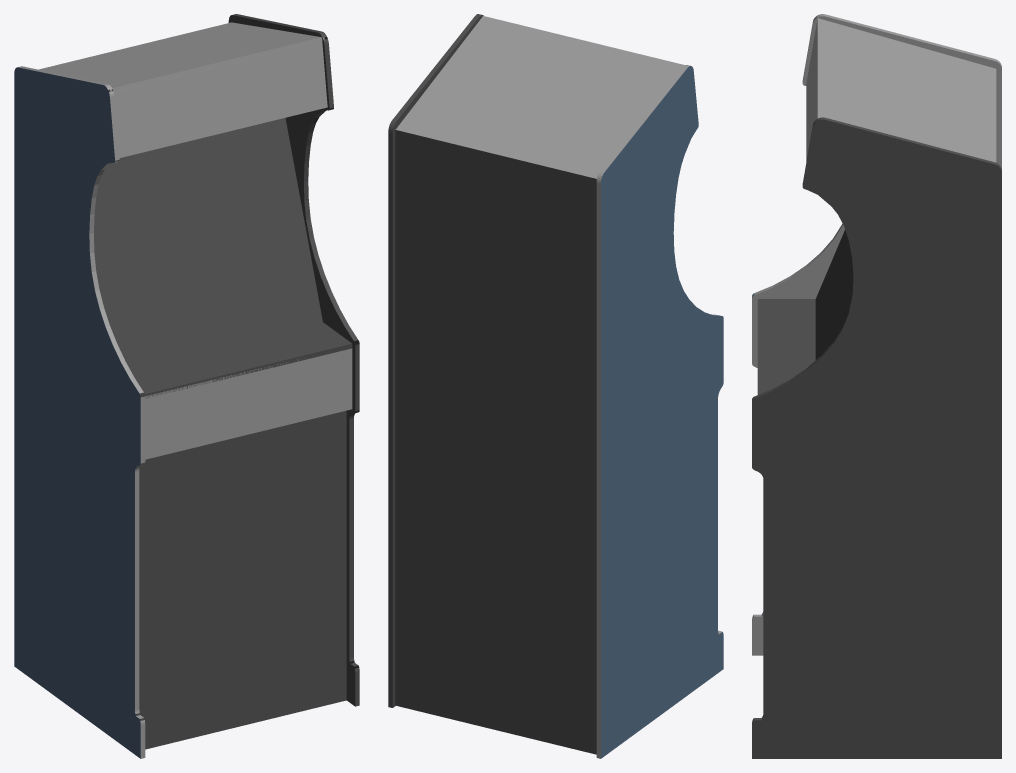
File: borneobj.obj
3 views of the same model, side by side, from view 1: azimuth 30°, elevation 25°; view 2: azimuth 150°, elevation 25°; view 3: azimuth 270°, elevation 25° (orthographic). The views are drawn at different scales.
Visible parts, largest first — view 1: Mesh2 G_1_2 Model, Mesh4 G_1_6 G_1_5 Model, Mesh1 G_1_1 G_1 Model, Mesh5 G_1_8 G_1_7 Model, Mesh7 G_1_12 G_1_11 Model, Mesh3 G_1_4 G_1_3 Model, Mesh6 G_1_10 G_1_9 Model; view 2: Mesh7 G_1_12 G_1_11 Model, Mesh2 G_1_2 Model, Mesh3 G_1_4 G_1_3 Model; view 3: Mesh3 G_1_4 G_1_3 Model, Mesh7 G_1_12 G_1_11 Model, Mesh2 G_1_2 Model, Mesh6 G_1_10 G_1_9 Model, Mesh1 G_1_1 G_1 Model.
Part boxes in pixels (<box>): Mesh2 G_1_2 Model: <box>14,66,145,758</box>; Mesh4 G_1_6 G_1_5 Model: <box>135,410,346,749</box>; Mesh1 G_1_1 G_1 Model: <box>94,38,327,368</box>; Mesh5 G_1_8 G_1_7 Model: <box>145,348,352,459</box>; Mesh7 G_1_12 G_1_11 Model: <box>39,22,324,92</box>; Mesh3 G_1_4 G_1_3 Model: <box>228,14,359,706</box>; Mesh6 G_1_10 G_1_9 Model: <box>130,322,352,398</box>; Mesh7 G_1_12 G_1_11 Model: <box>395,16,684,754</box>; Mesh2 G_1_2 Model: <box>596,65,723,758</box>; Mesh3 G_1_4 G_1_3 Model: <box>388,14,483,707</box>; Mesh3 G_1_4 G_1_3 Model: <box>752,117,1001,758</box>; Mesh7 G_1_12 G_1_11 Model: <box>817,18,996,162</box>; Mesh2 G_1_2 Model: <box>752,14,1001,655</box>; Mesh6 G_1_10 G_1_9 Model: <box>757,299,815,394</box>; Mesh1 G_1_1 G_1 Model: <box>806,19,853,359</box>.
Bounding box in the file's own units: 8.75 × 24.71 × 8.75.
